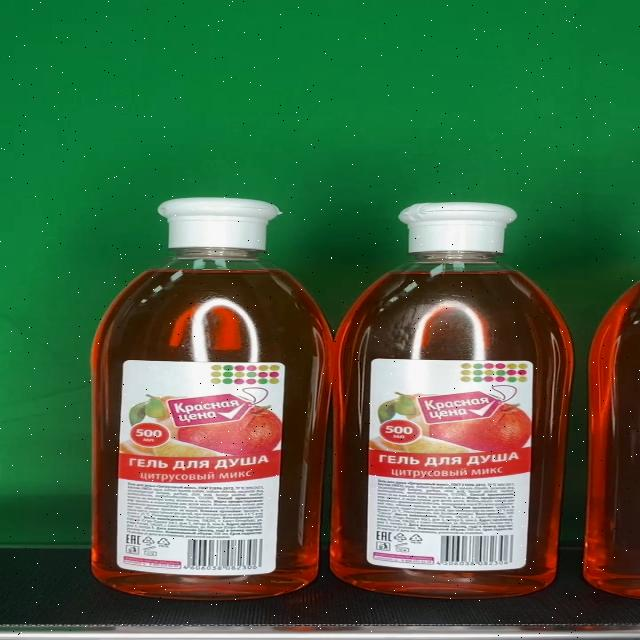Bottle: (88, 197, 336, 600), (331, 201, 578, 598)
Cap: (396, 202, 517, 253), (158, 198, 280, 248)
